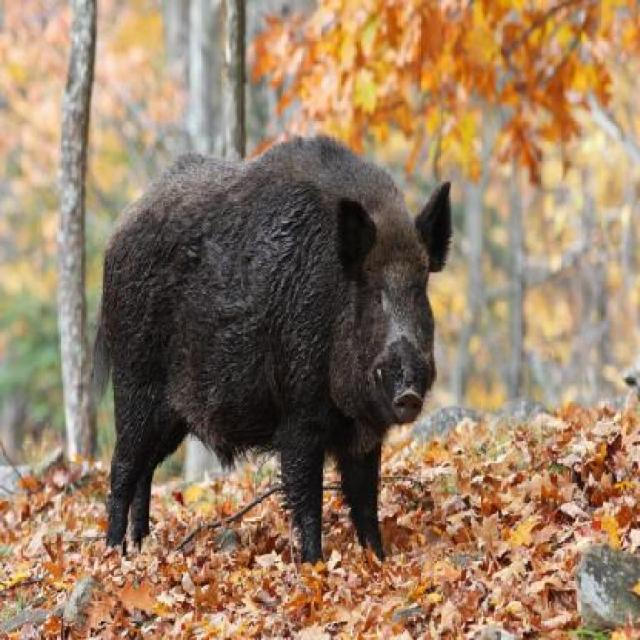wildboar: (86, 131, 452, 566)
